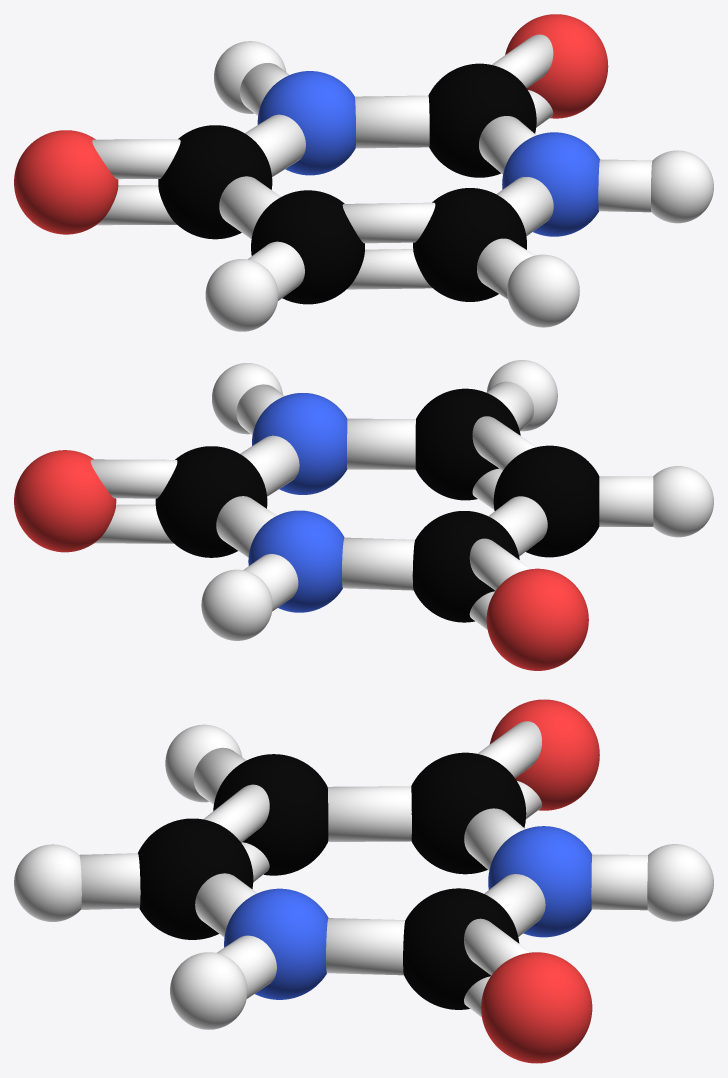
The picture shows the model from 3 angles, top to bottom: view 1: azimuth 30°, elevation 25°; view 2: azimuth 150°, elevation 25°; view 3: azimuth 270°, elevation 25°; orthographic projection. The views are drawn at different scales.
Parts seen in each view (by area): view 1: molecule; view 2: molecule; view 3: molecule.
Part boxes in pixels (bbox=[...]): molecule: bbox=[14, 14, 713, 331]; molecule: bbox=[14, 360, 713, 670]; molecule: bbox=[14, 699, 713, 1063].
Size of the model in its own units: 5.48 by 0.9402 by 5.41.
